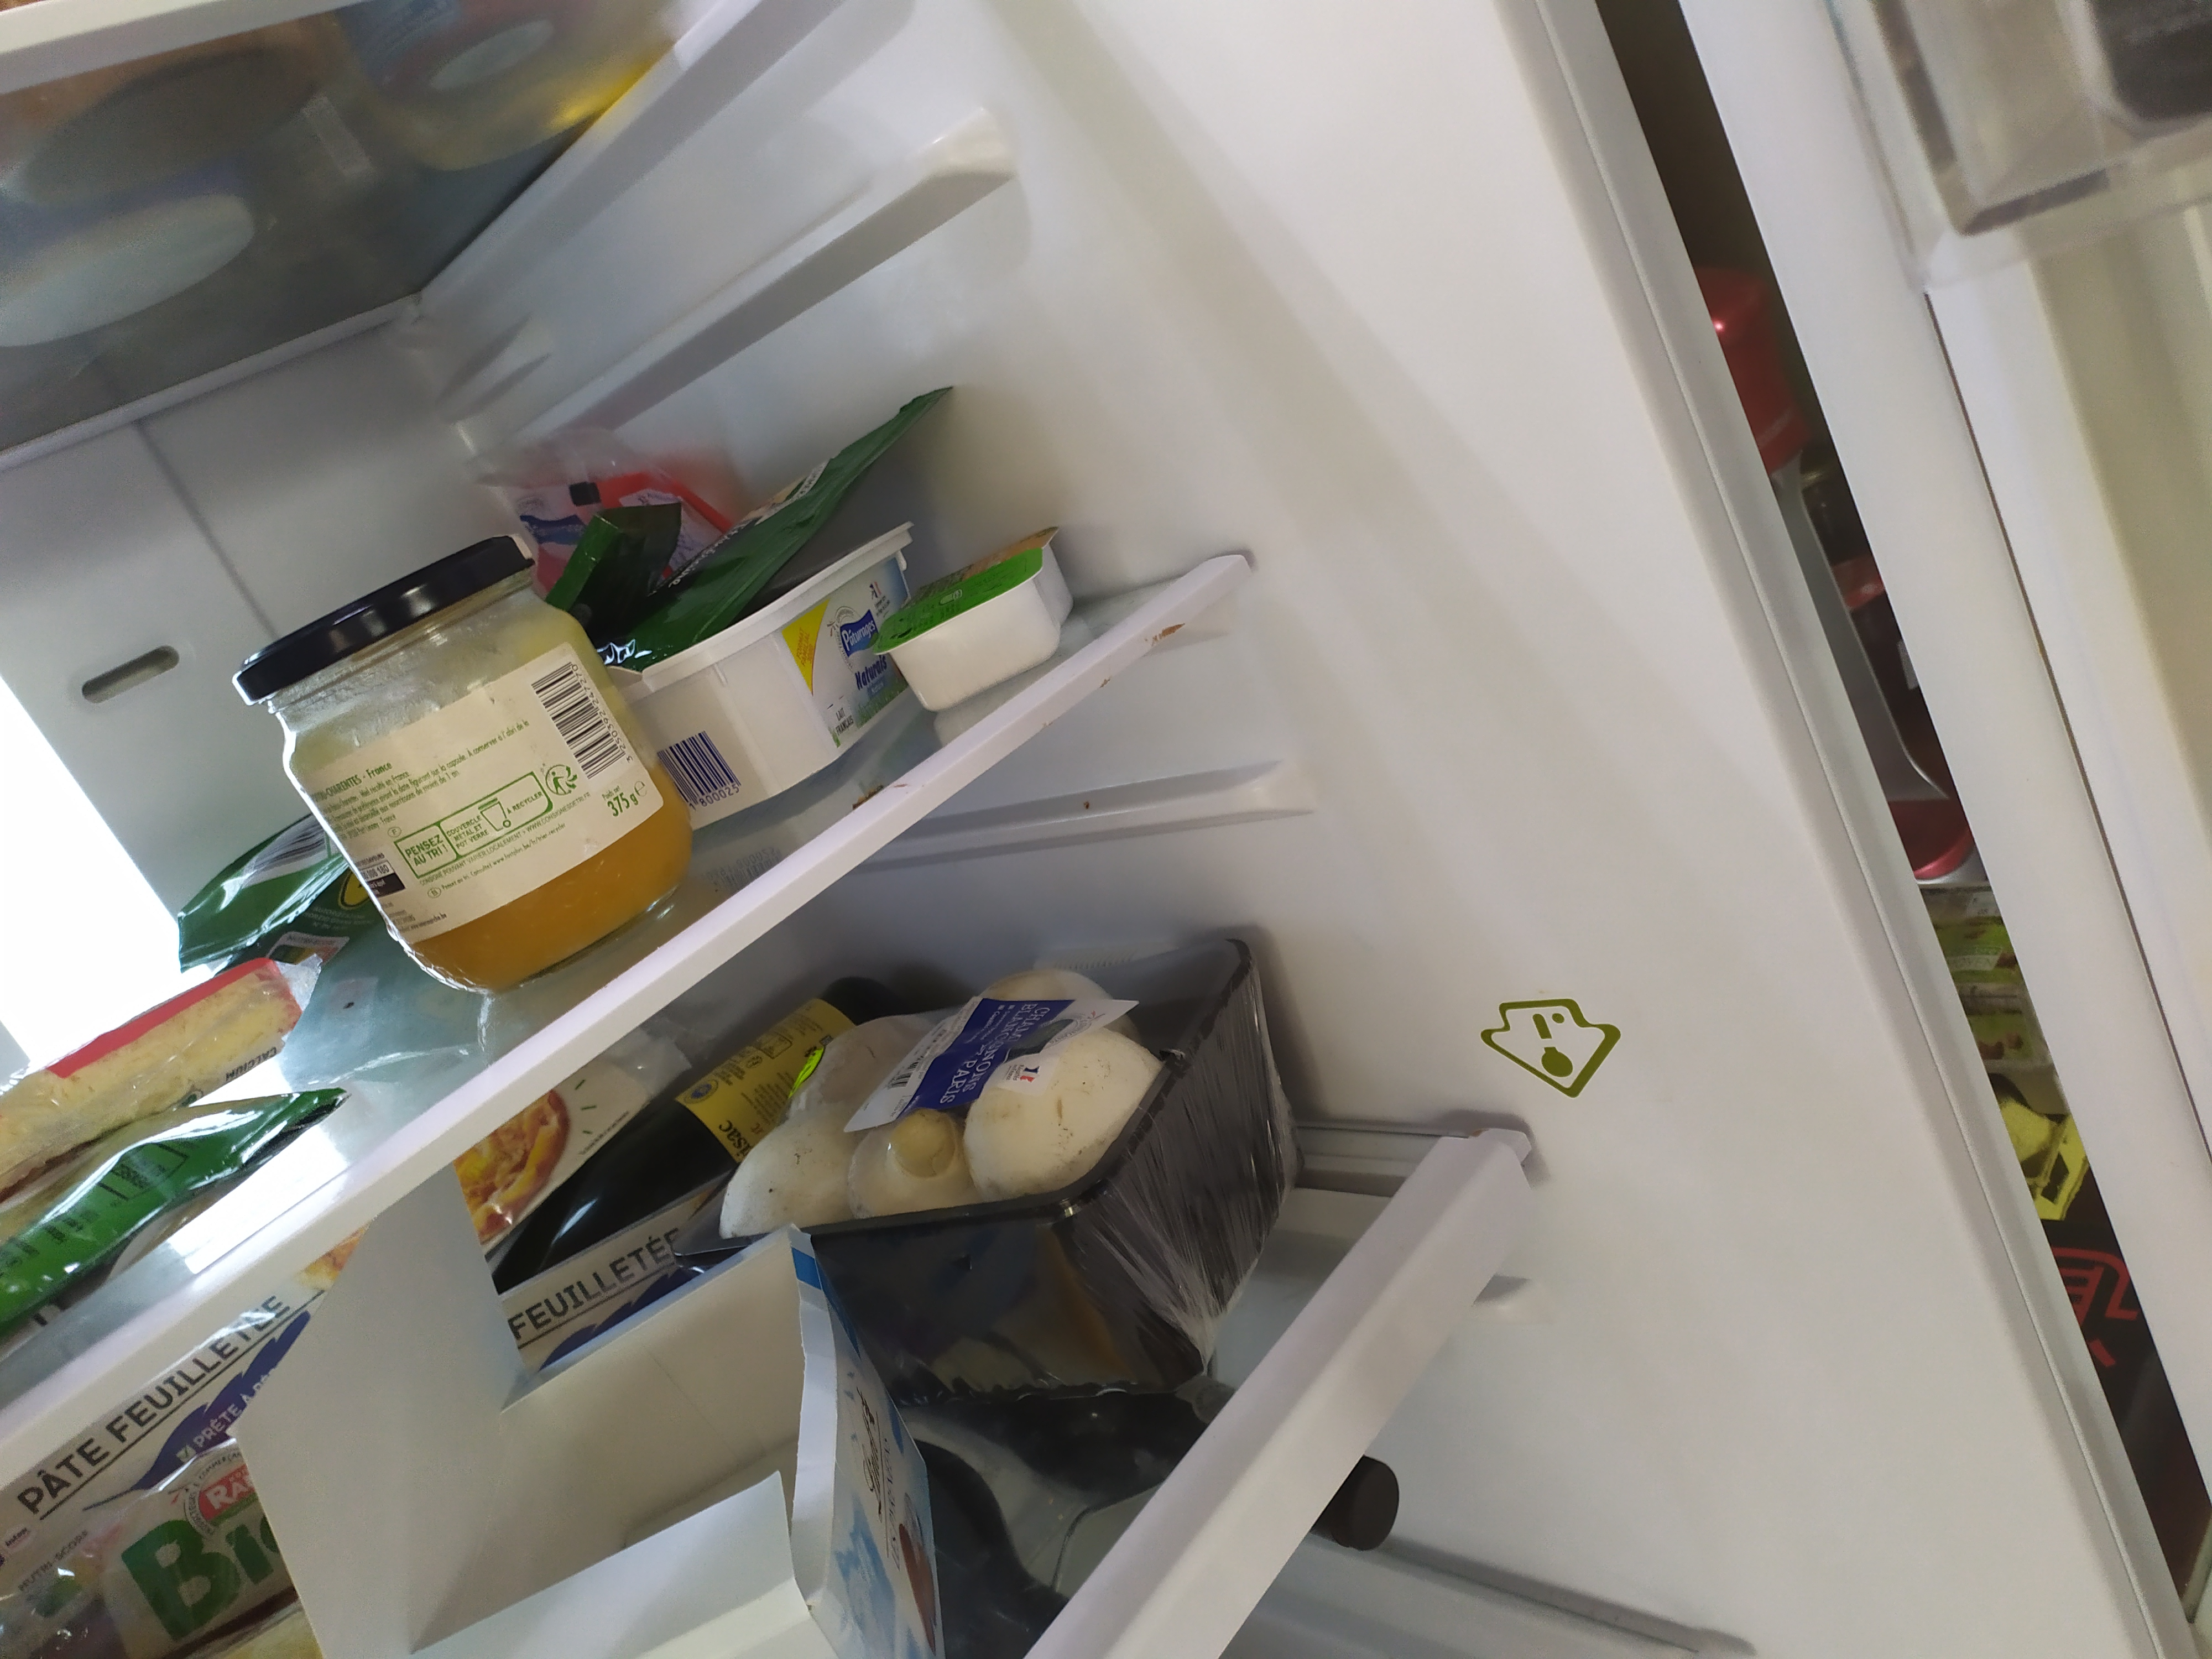bottle: (493, 969, 921, 1291), (853, 1333, 1407, 1554), (888, 1429, 1071, 1656)
mushroom: (709, 941, 1299, 1366)
